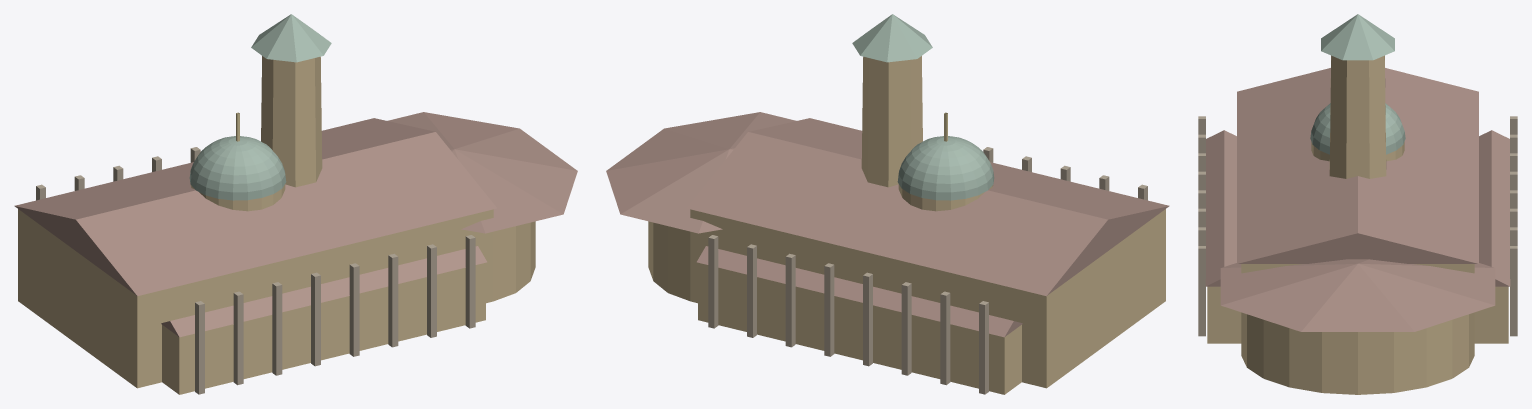
File: catedralvalencia.glb
3 renders of one model, left to right at view 1: azimuth 30°, elevation 25°; view 2: azimuth 150°, elevation 25°; view 3: azimuth 270°, elevation 25°, orthographic.
Size of the model in its own units: 126 by 71 by 75.2.
